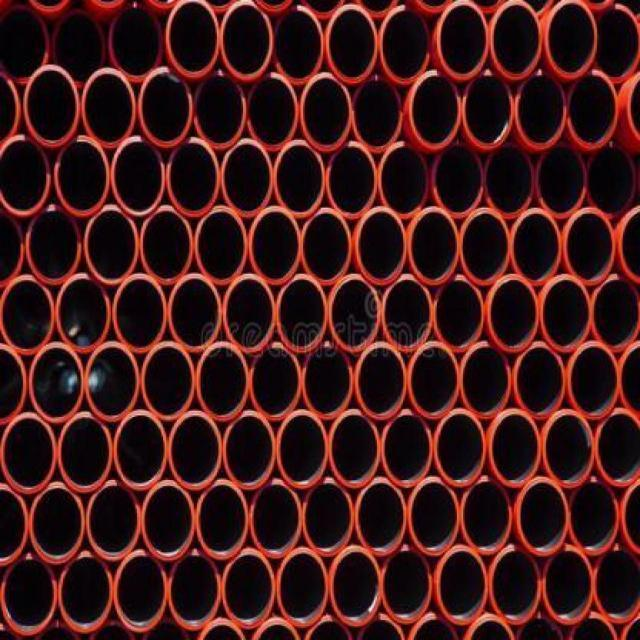pipe: (0, 552, 57, 637), (23, 64, 80, 147), (0, 412, 57, 494), (25, 205, 82, 286), (54, 136, 110, 218), (28, 482, 84, 564), (113, 550, 169, 632), (58, 551, 114, 633), (84, 204, 140, 285), (57, 411, 113, 492), (85, 480, 141, 561), (1, 274, 56, 356), (29, 343, 85, 423), (85, 341, 139, 423), (167, 548, 221, 630), (55, 274, 111, 353), (112, 274, 168, 353), (196, 341, 250, 422), (222, 410, 276, 491), (168, 410, 222, 491), (222, 548, 276, 629), (139, 67, 193, 148), (193, 70, 247, 151), (140, 342, 196, 420), (82, 69, 136, 149), (276, 547, 329, 628), (462, 69, 515, 150), (112, 137, 166, 216), (166, 138, 220, 217), (194, 206, 248, 285), (139, 206, 193, 285), (168, 274, 222, 353), (299, 73, 353, 152), (330, 546, 382, 628), (115, 410, 169, 488), (410, 70, 462, 151), (221, 139, 274, 218), (273, 139, 326, 218), (489, 1, 542, 80), (545, 1, 598, 80), (196, 480, 249, 559), (542, 545, 595, 624), (515, 70, 568, 149), (247, 72, 300, 151), (166, 1, 220, 78), (109, 3, 163, 80), (302, 342, 355, 420), (568, 342, 621, 420), (513, 342, 566, 420), (249, 342, 302, 420), (276, 410, 329, 488), (460, 477, 513, 555), (249, 480, 302, 558), (142, 482, 195, 560), (408, 476, 459, 557), (489, 544, 540, 625), (356, 206, 408, 285), (381, 274, 433, 353), (276, 274, 328, 353), (409, 341, 461, 420), (326, 5, 378, 84), (381, 545, 433, 624), (436, 546, 488, 625), (535, 142, 588, 219), (408, 207, 461, 284), (248, 208, 301, 285), (328, 275, 381, 352), (223, 275, 276, 352), (542, 410, 595, 487), (515, 478, 568, 555), (0, 136, 51, 216), (220, 0, 271, 80), (355, 342, 407, 420), (436, 2, 488, 80), (433, 408, 485, 486), (489, 409, 541, 487), (381, 410, 433, 488), (355, 478, 407, 556), (540, 274, 591, 353), (488, 274, 539, 353), (379, 5, 430, 84), (273, 6, 324, 85), (303, 479, 354, 558), (431, 142, 483, 219), (460, 342, 512, 419), (329, 411, 381, 488), (52, 10, 104, 87), (326, 142, 377, 219), (378, 142, 429, 219), (301, 209, 352, 286), (433, 275, 484, 352), (569, 478, 620, 555), (567, 71, 618, 148), (511, 209, 562, 285), (564, 209, 615, 285), (353, 76, 404, 152), (0, 5, 49, 84), (484, 143, 534, 219), (461, 209, 510, 286), (591, 275, 639, 352), (595, 3, 640, 85), (592, 546, 640, 622), (587, 142, 635, 217), (595, 408, 640, 488), (0, 483, 29, 566), (0, 344, 28, 426), (618, 341, 640, 420), (565, 612, 618, 640), (406, 612, 458, 639), (462, 614, 516, 639)
